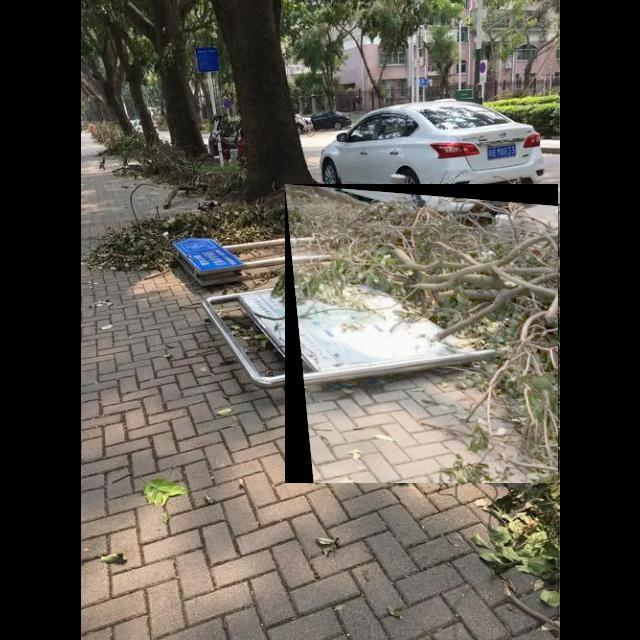fallen_tree: (285, 184, 559, 484)
